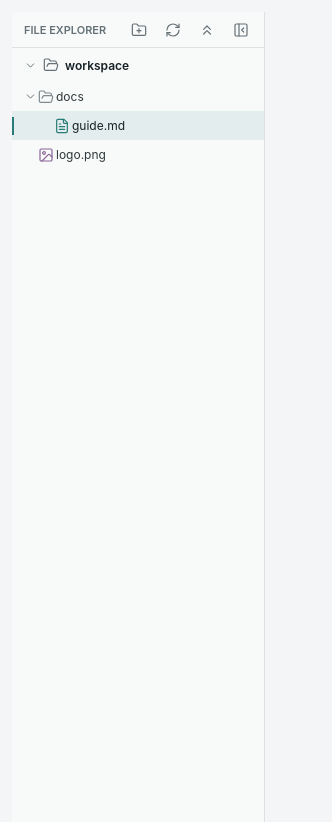
Scenario: FileExplorer › allows collapsing the directory that contains the current file
Click the button "docs" at (138, 96), box [12, 82, 264, 111]
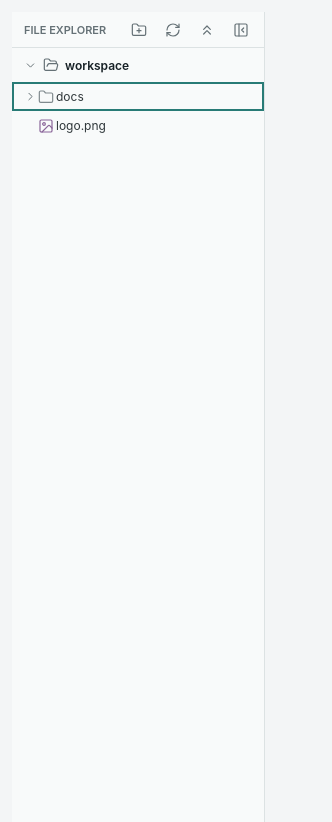
expect the list item "docs" is collapsed: met, box [12, 82, 264, 111]
expect the button "guide.md" is gone: met
